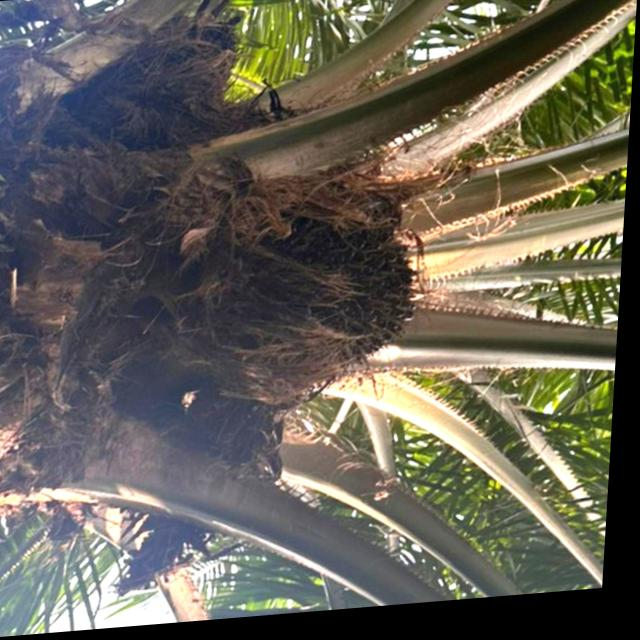almost: (202, 175, 433, 413)
